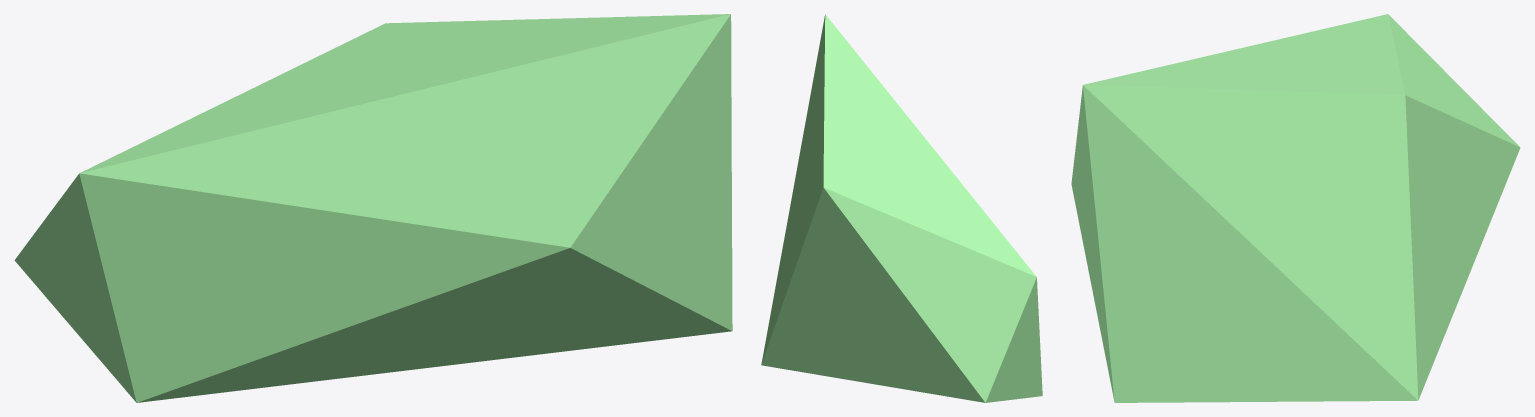
The model's file is dvkr_robot_L3_sx_respondable_TOOL1_coll_2.dae.
3 views of the same model, side by side, from view 1: azimuth 30°, elevation 25°; view 2: azimuth 150°, elevation 25°; view 3: azimuth 270°, elevation 25° (orthographic). The views are drawn at different scales.
Parts seen in each view (by area): view 1: Node_0000023514CDA040; view 2: Node_0000023514CDA040; view 3: Node_0000023514CDA040.
Part boxes in pixels (x1,y1,x2,y2): Node_0000023514CDA040: [14, 14, 732, 402]; Node_0000023514CDA040: [761, 14, 1042, 402]; Node_0000023514CDA040: [1071, 14, 1520, 402].
Bounding box in the file's own units: 0.00248 × 0.00179 × 0.00206.
